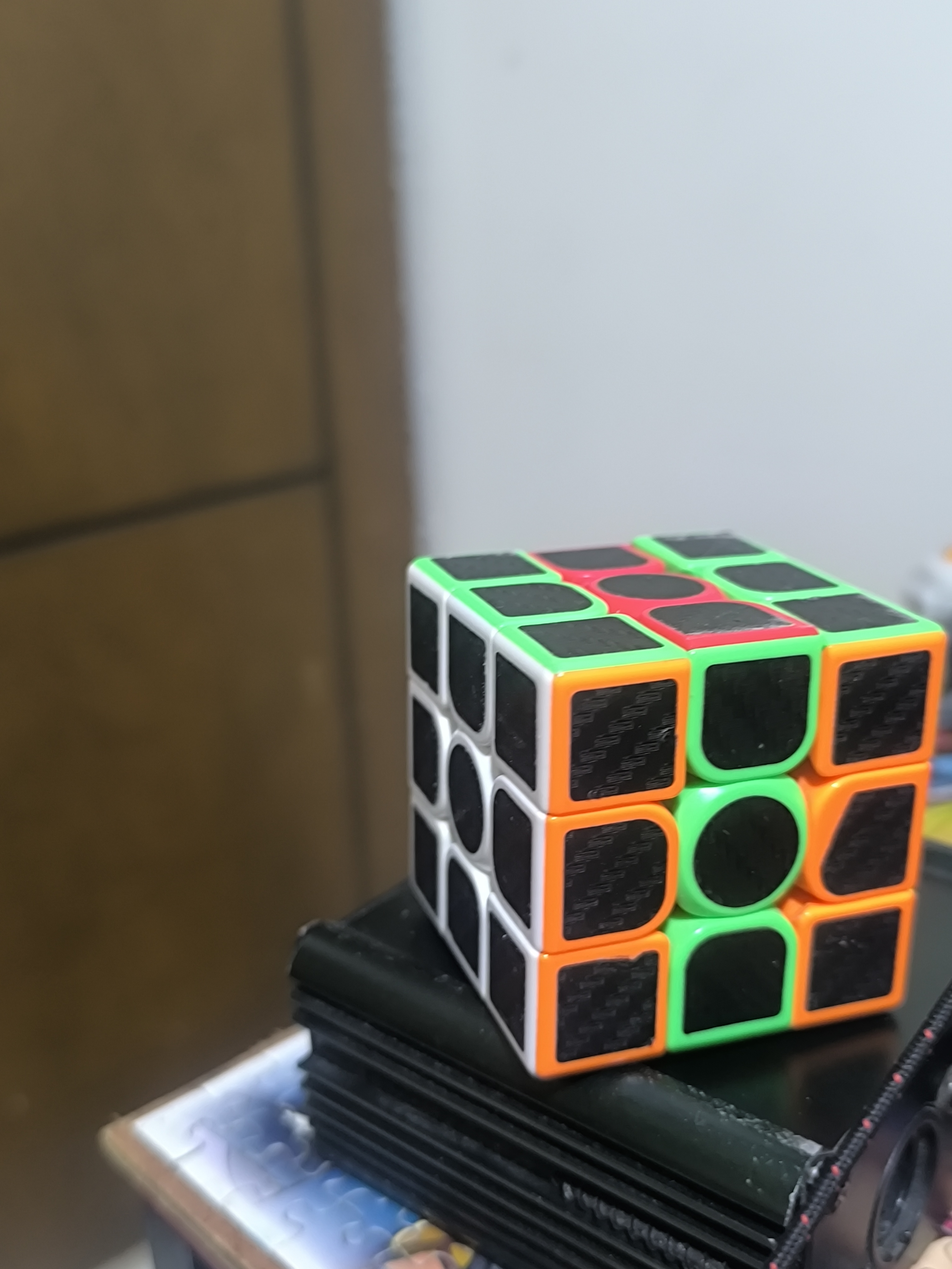cube_rubik: (408, 534, 945, 1076)
